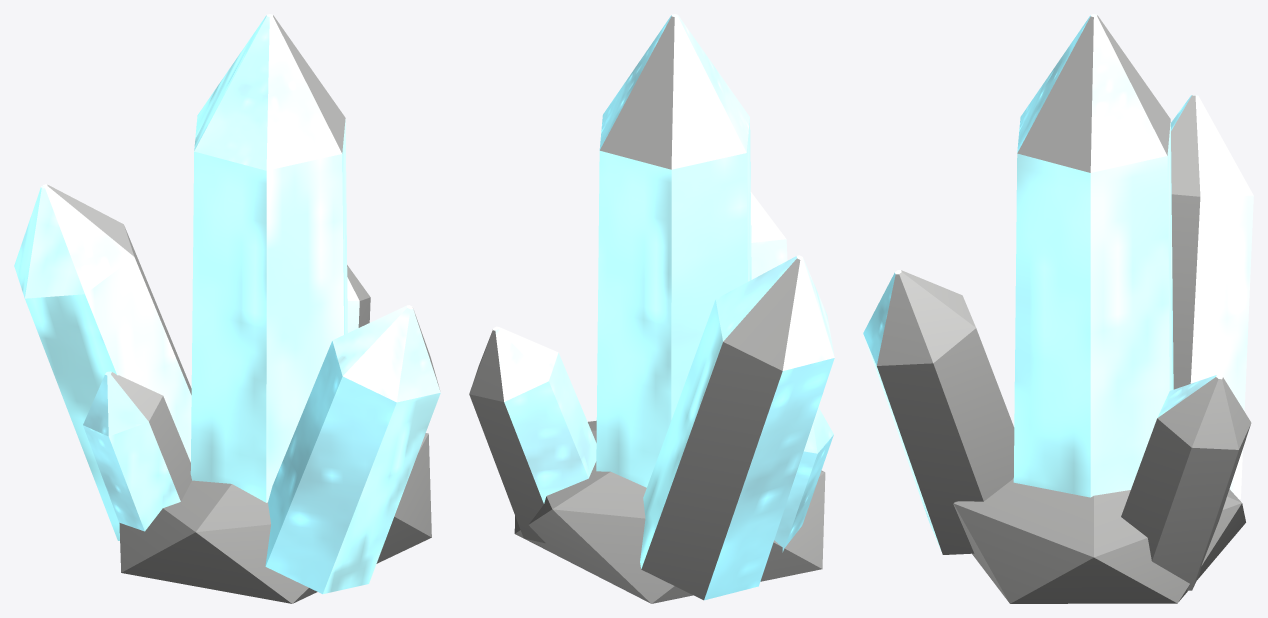
File: SM_ENV_Ocean_Crystal_Cool.fbx
3 renders of one model, left to right at view 1: azimuth 30°, elevation 25°; view 2: azimuth 150°, elevation 25°; view 3: azimuth 270°, elevation 25°, orthographic. The views are drawn at different scales.
Parts seen in each view (by area): view 1: SM_ENV_Ocean_Crystal_Cool; view 2: SM_ENV_Ocean_Crystal_Cool; view 3: SM_ENV_Ocean_Crystal_Cool.
Boxes of the visible parts, x1=… form: SM_ENV_Ocean_Crystal_Cool: x1=14, y1=14, x2=440, y2=603; SM_ENV_Ocean_Crystal_Cool: x1=469, y1=14, x2=834, y2=603; SM_ENV_Ocean_Crystal_Cool: x1=863, y1=14, x2=1253, y2=603.
Size of the model in its own units: 1.11 by 1.55 by 1.03.
